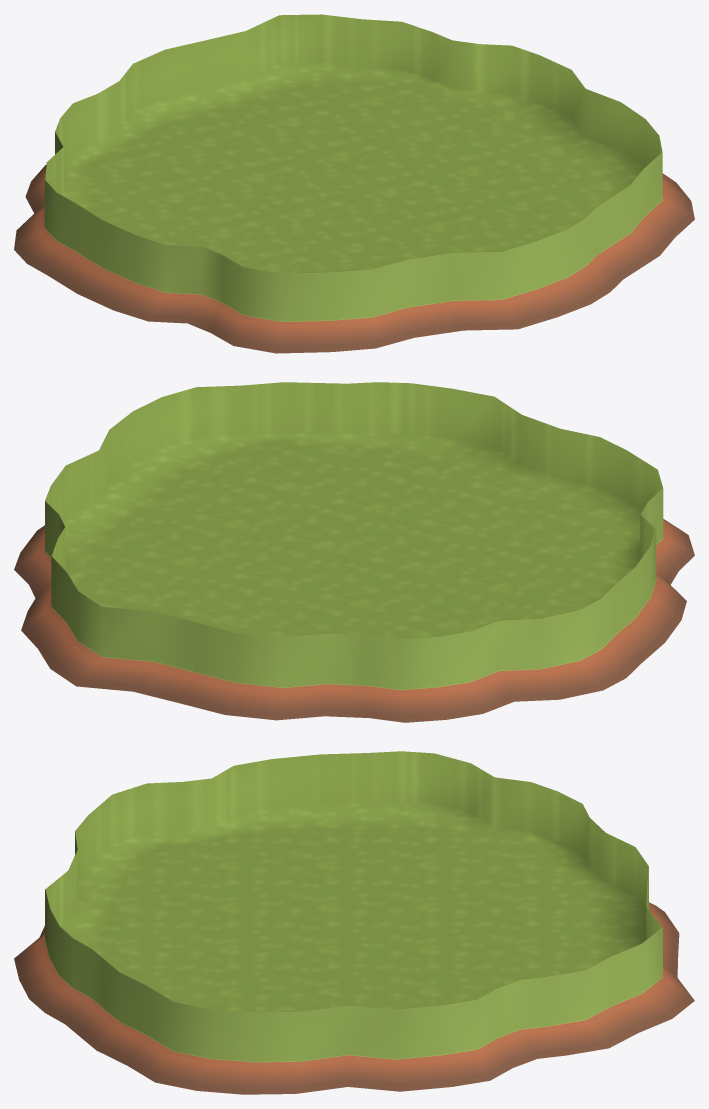
Rendered from islandInvisibleWall.fbx.
The picture shows the model from 3 angles, top to bottom: view 1: azimuth 30°, elevation 25°; view 2: azimuth 150°, elevation 25°; view 3: azimuth 270°, elevation 25°; orthographic projection. The views are drawn at different scales.
Visible parts, largest first — view 1: island; view 2: island; view 3: island.
Boxes of the visible parts, bbox=[...] form: island: bbox=[14, 14, 694, 353]; island: bbox=[14, 382, 694, 722]; island: bbox=[14, 751, 694, 1094].
Bounding box in the file's own units: 29117 × 3261 × 29086.
